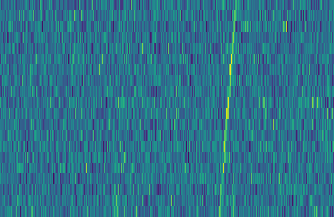signal: (216, 0, 242, 217)
